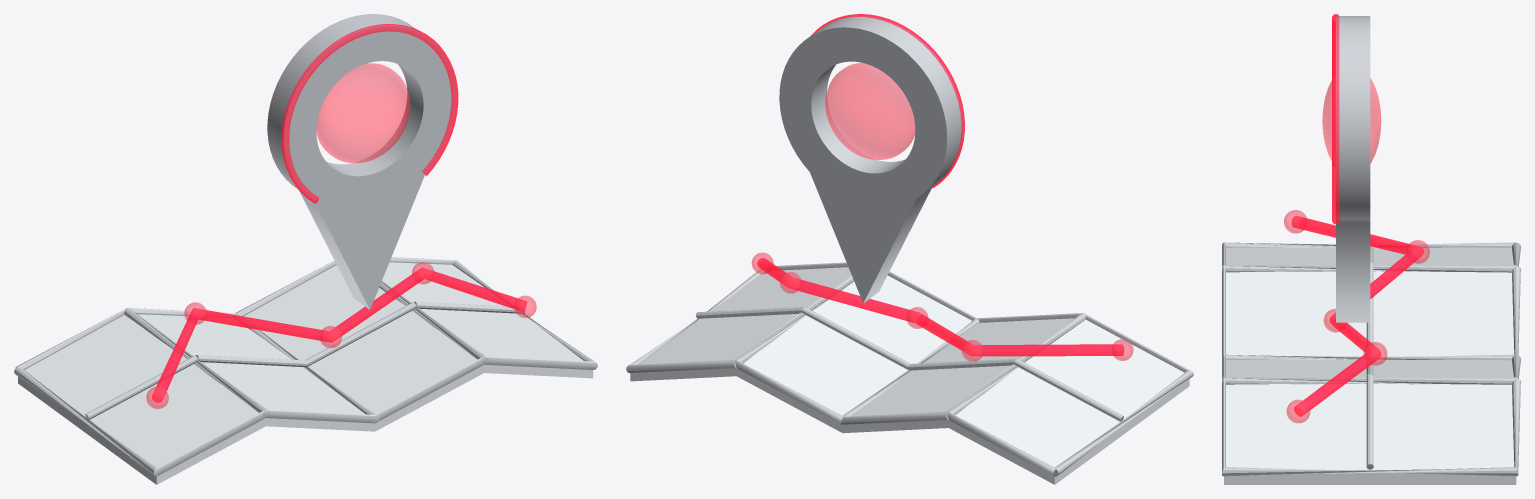
The model's file is 07-geoanalytics.glb.
3 renders of one model, left to right at view 1: azimuth 30°, elevation 25°; view 2: azimuth 150°, elevation 25°; view 3: azimuth 270°, elevation 25°, orthographic. The views are drawn at different scales.
Visible parts, largest first — view 1: BC clear optical glass, BC satin silver metal, BC ruby optical glass, BC neon red glass edge; view 2: BC clear optical glass, BC satin silver metal, BC ruby optical glass, BC neon red glass edge; view 3: BC clear optical glass, BC satin silver metal, BC neon red glass edge, BC ruby optical glass.
Boxes of the visible parts, <box> form: BC clear optical glass: <box>18,262,593,484</box>; BC satin silver metal: <box>14,14,597,476</box>; BC ruby optical glass: <box>146,63,536,408</box>; BC neon red glass edge: <box>152,24,527,402</box>; BC clear optical glass: <box>630,267,1189,484</box>; BC satin silver metal: <box>626,16,1193,476</box>; BC ruby optical glass: <box>751,63,1133,361</box>; BC neon red glass edge: <box>757,14,1124,356</box>; BC clear optical glass: <box>1224,247,1516,484</box>; BC satin silver metal: <box>1222,16,1520,476</box>; BC neon red glass edge: <box>1291,14,1423,416</box>; BC ruby optical glass: <box>1284,78,1429,423</box>.
Size of the model in its own units: 2.03 by 1.55 by 1.12.
